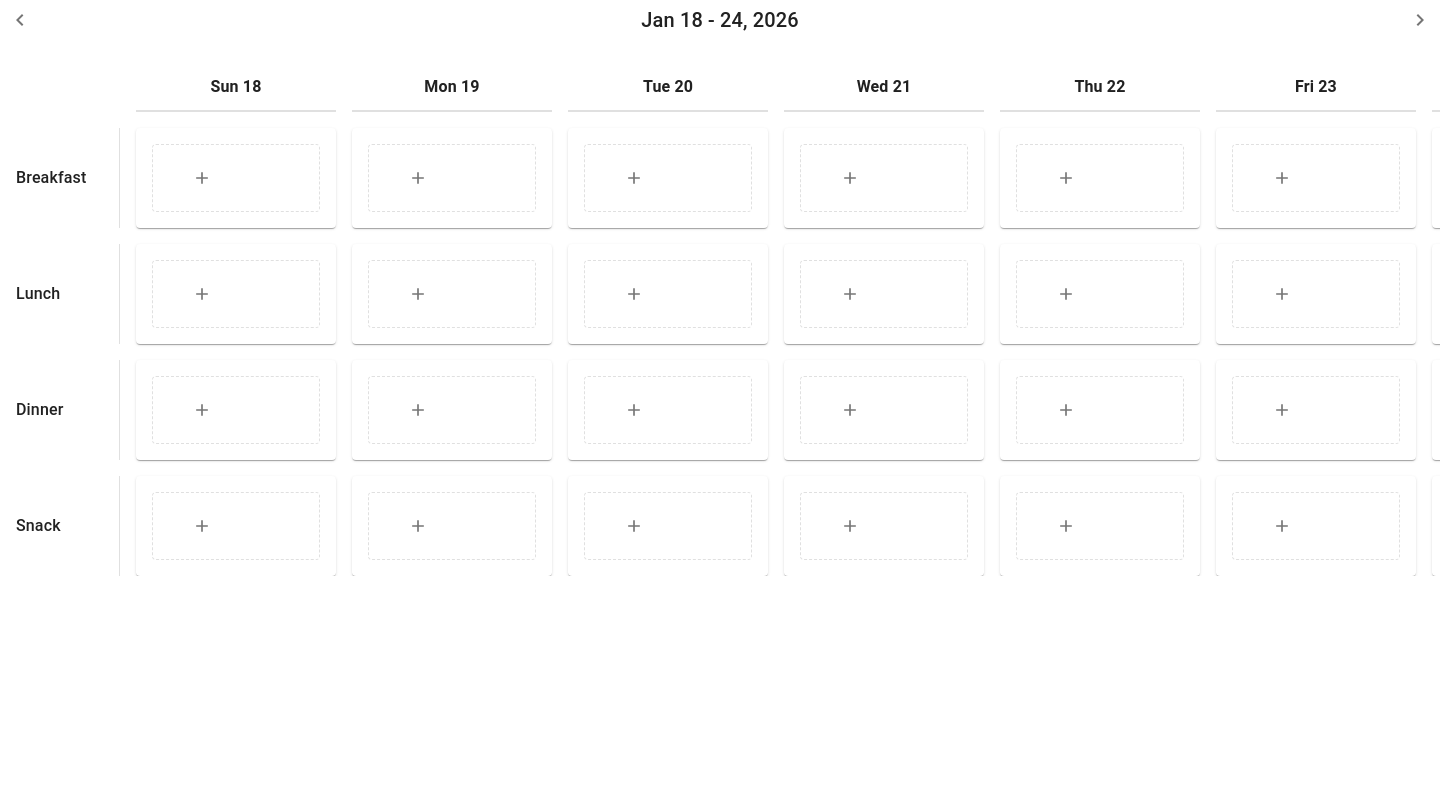
CalendarWeekView › should close add dialog when Cancel clicked
Open dialog
Click the 1st button named "add meal": (236, 178) top-left (152, 144), bottom-right (320, 212)
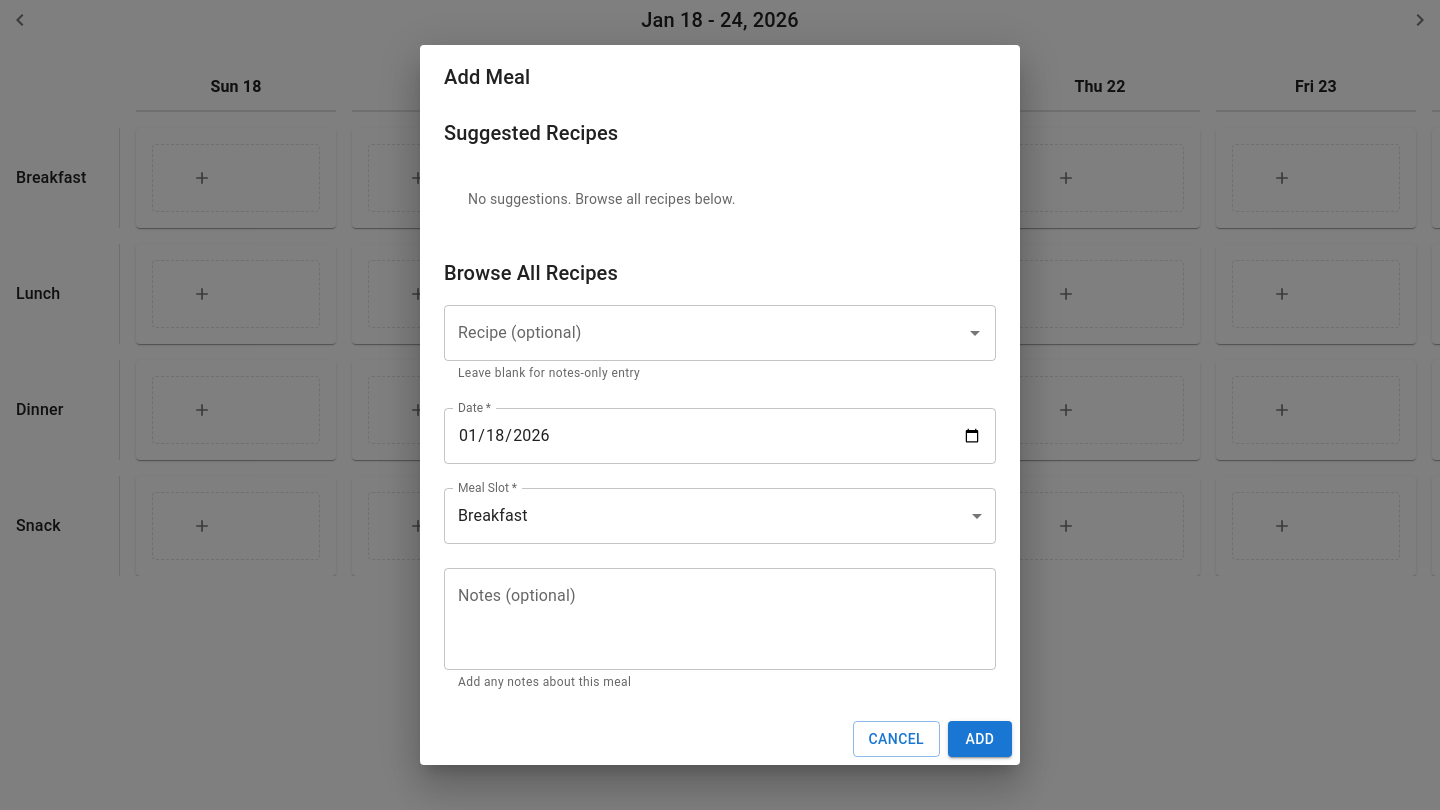
Close dialog
Click the button "Cancel": (896, 739) top-left (852, 721), bottom-right (940, 757)
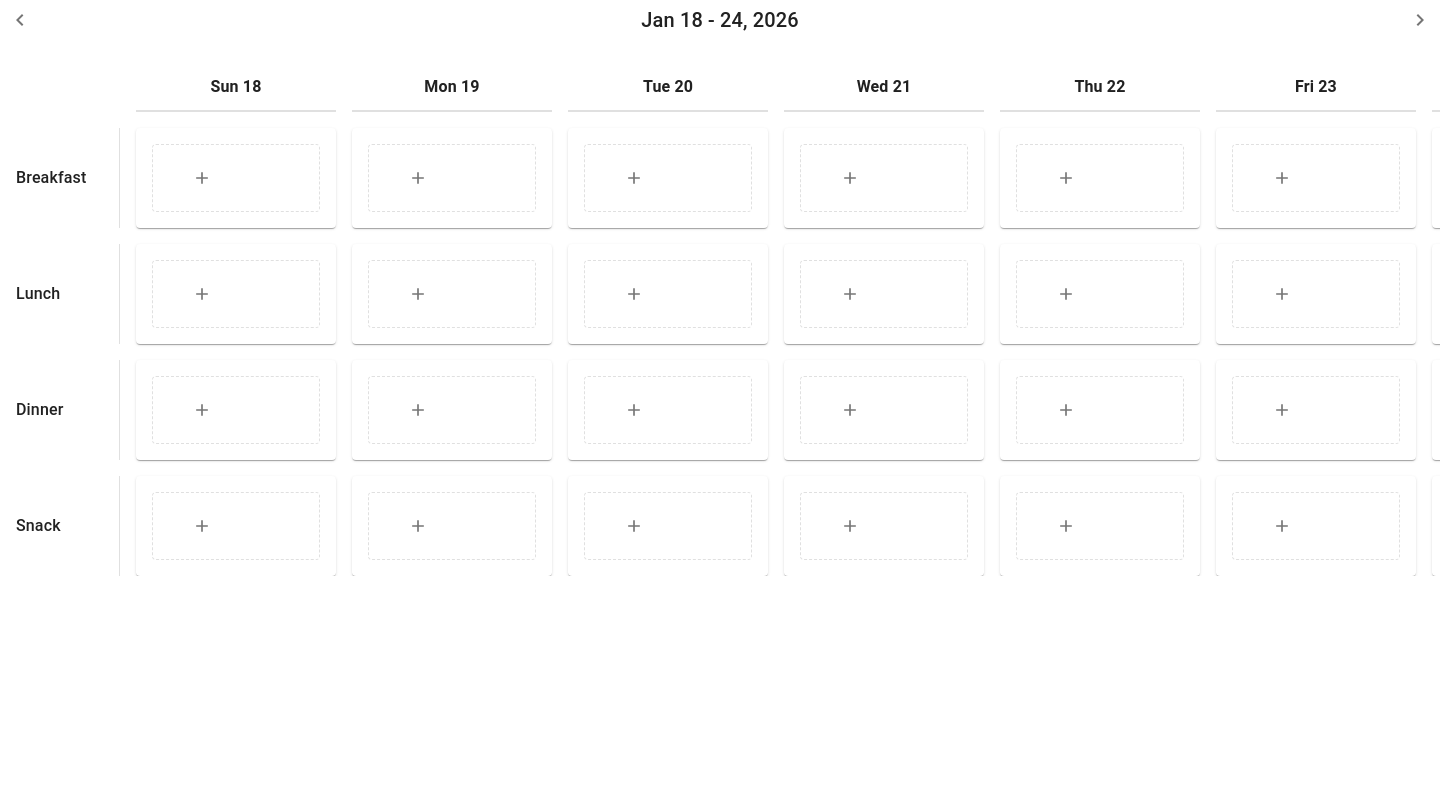
Check: the heading "Add Meal" is gone
